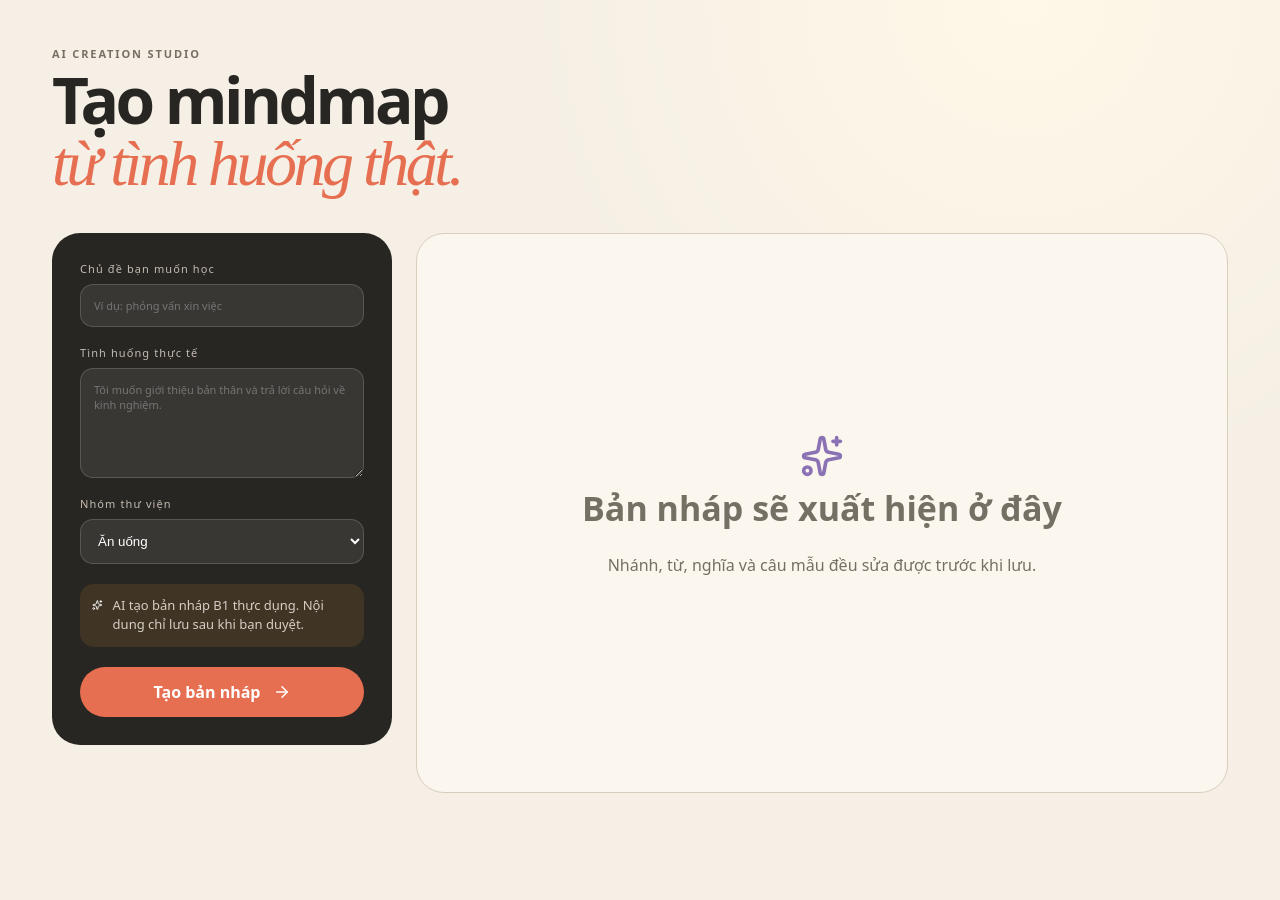
Test case: CreateMindmapPage › keeps AI output as preview until user saves
The width and height of the screenshot is (1280, 900).
In the field with placeholder "Ví dụ: phỏng vấn xin việc": {"x": 222, "y": 305} [80,284,364,327], type "coffee shop"
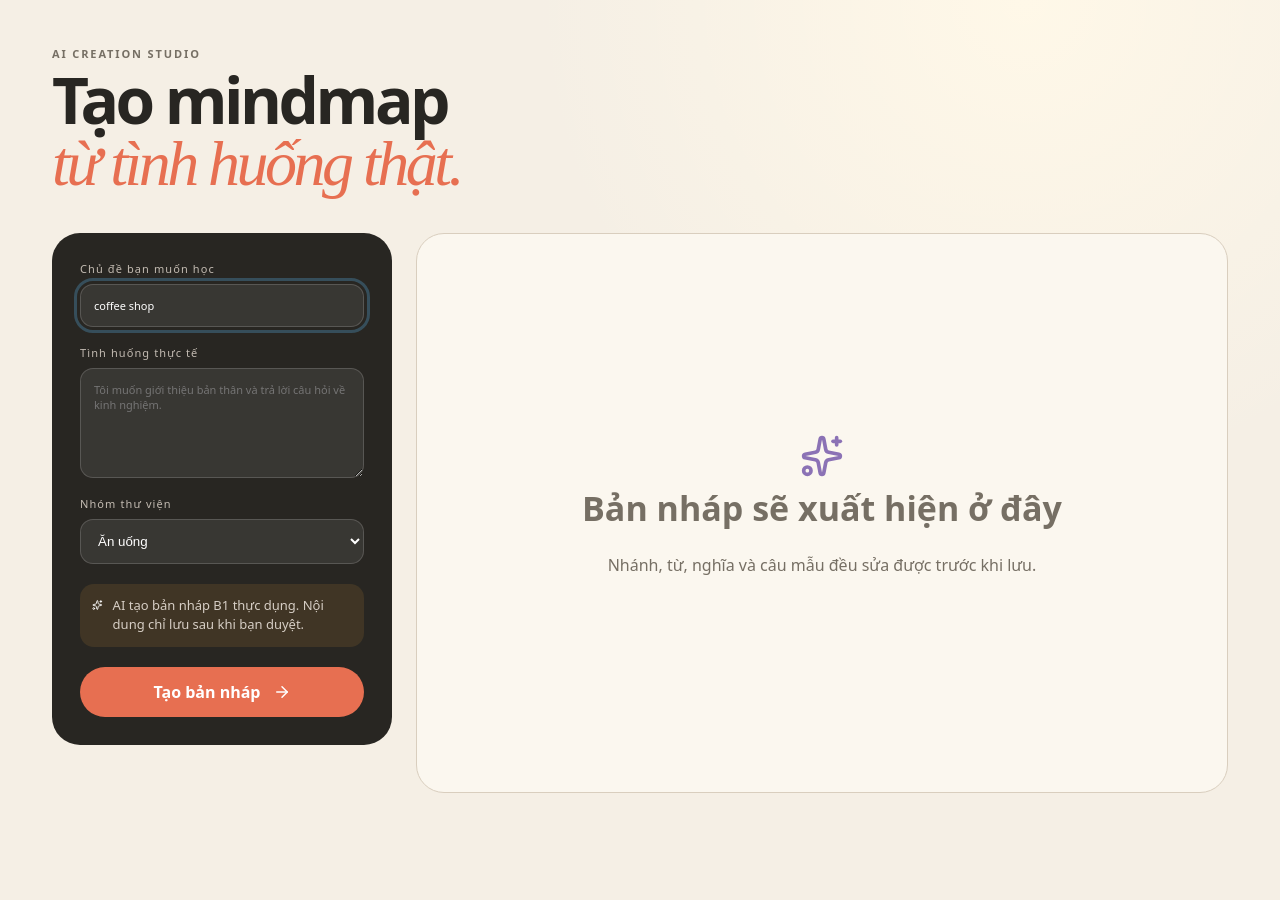
Click the button "Tạo bản nháp": {"x": 222, "y": 692} [80,667,364,717]
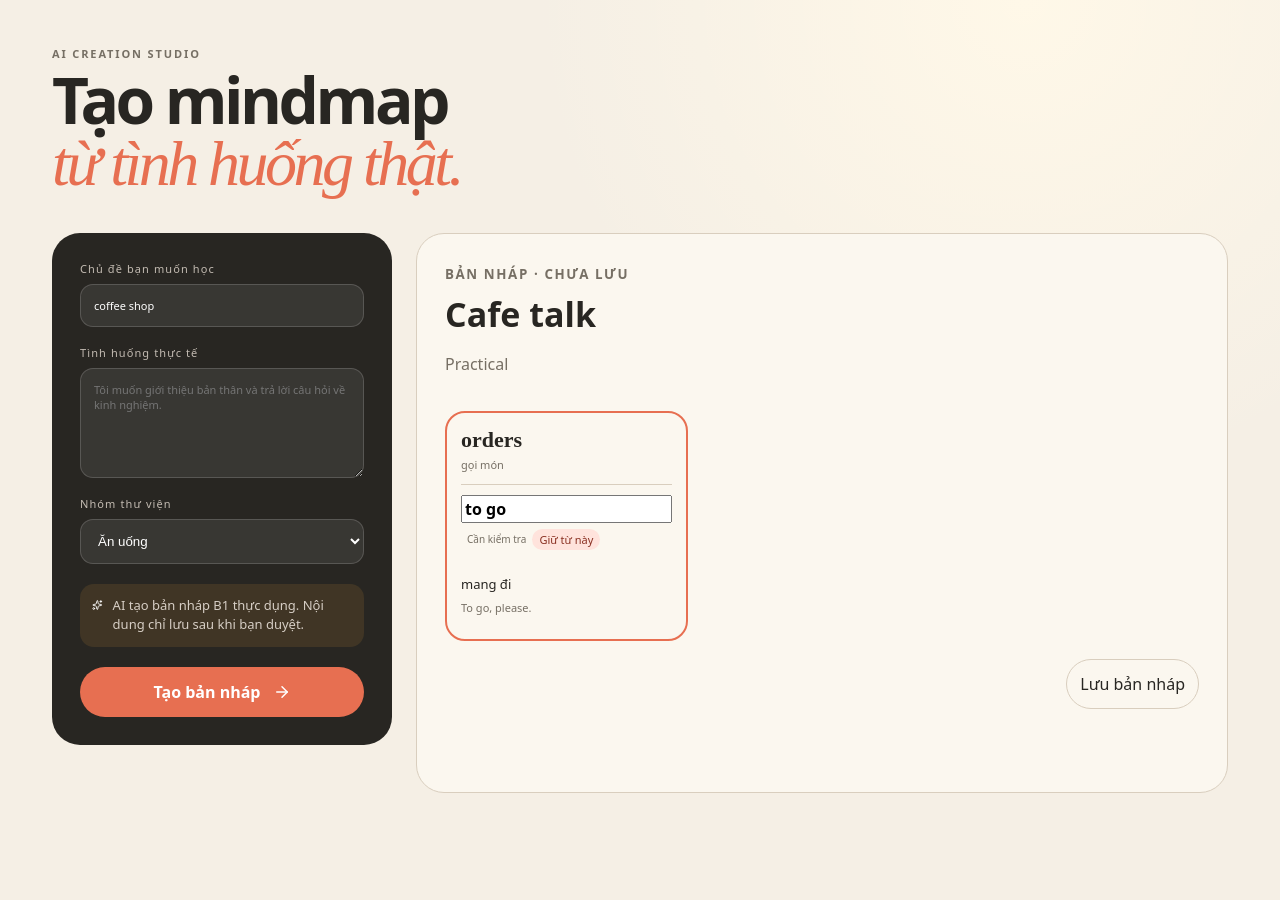
Expected: the heading "Cafe talk" is shown, [445,291,596,337]
Expected: the button "Lưu bản nháp" is shown, [1066,659,1199,709]
